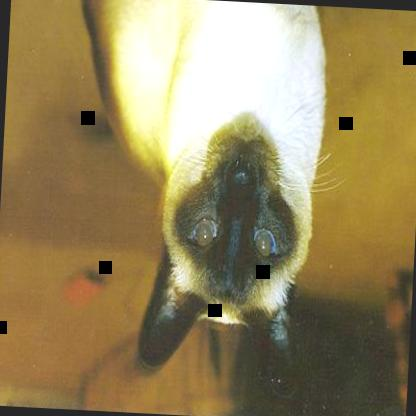cat: (57, 0, 333, 398)
